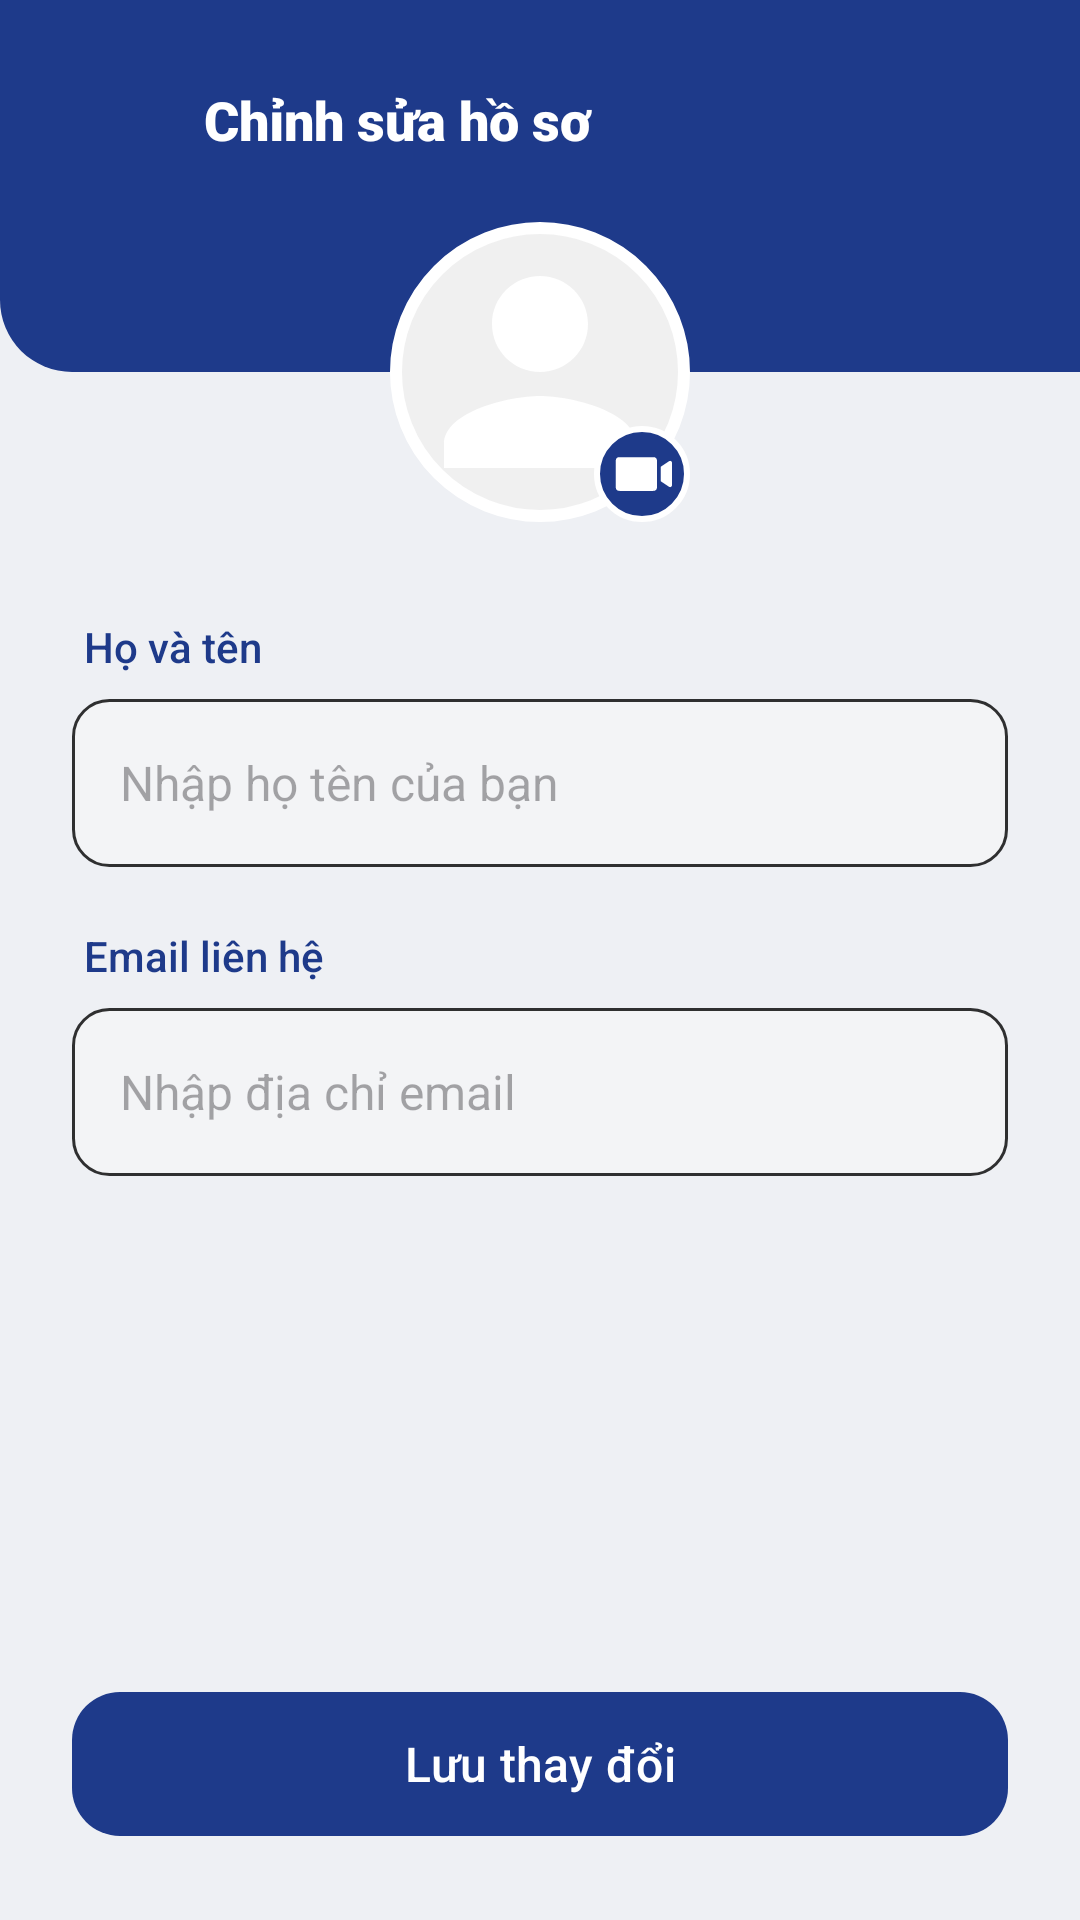

Icons on this 1080 x 1920 Android screen, each with the point to tap as [x,y]:
video camera: [642,474]
